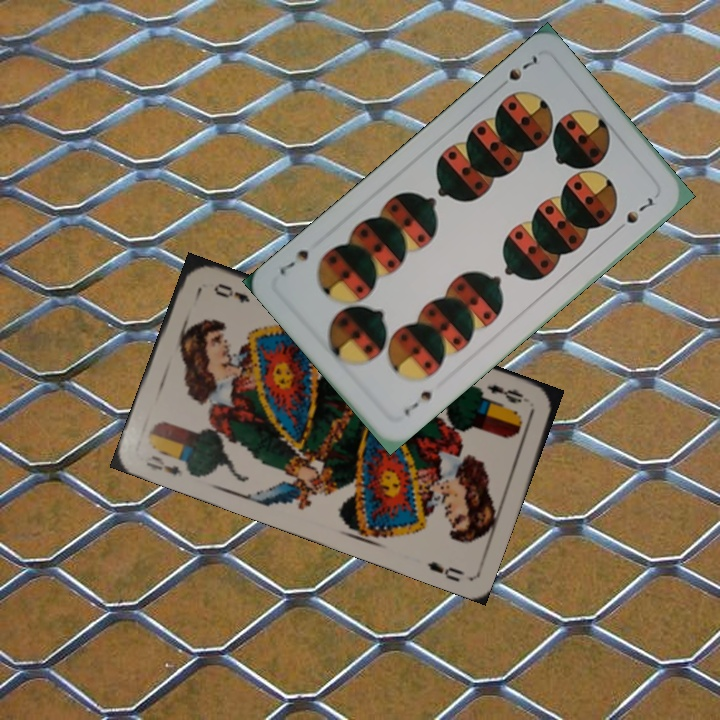EO: (483, 380, 533, 406), (142, 451, 184, 480)
S7: (492, 51, 540, 93), (400, 386, 435, 419)
